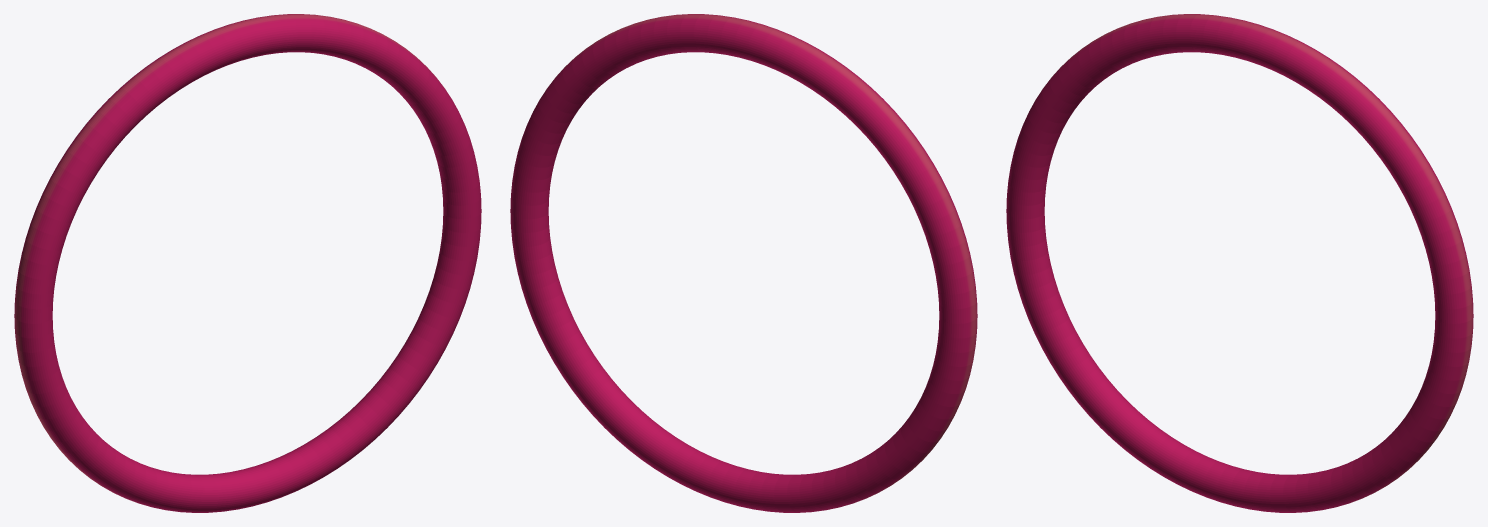
3 views of the same model, side by side, from view 1: azimuth 30°, elevation 25°; view 2: azimuth 150°, elevation 25°; view 3: azimuth 330°, elevation 25° (orthographic).
Visible parts, largest first — view 1: world; view 2: world; view 3: world.
Part boxes in pixels (<box>): world: <box>14,14,481,512</box>; world: <box>510,14,977,512</box>; world: <box>1006,14,1473,512</box>.
Size of the model in its own units: 31.6 by 31.6 by 2.26.
